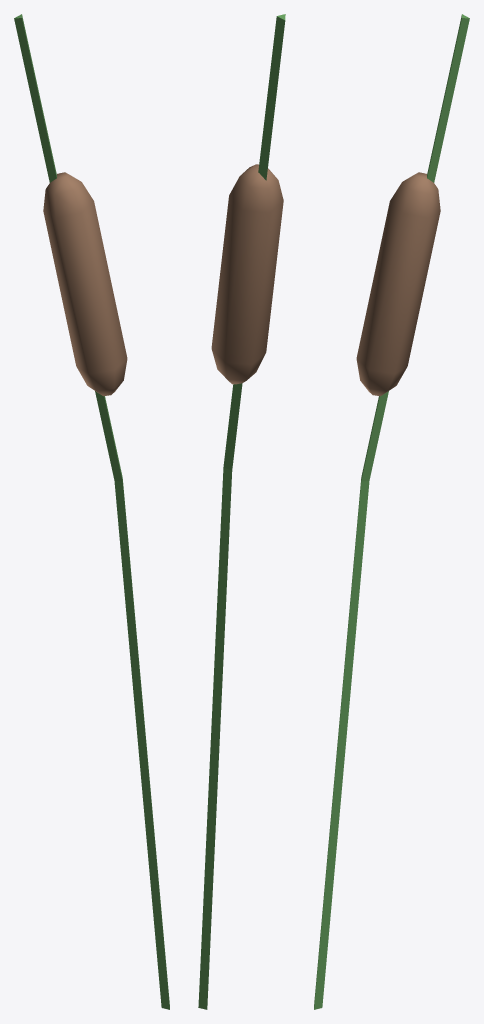
Rendered from Cattail.fbx.
3 views of the same model, side by side, from view 1: azimuth 90°, elevation 25°; view 2: azimuth 210°, elevation 25°; view 3: azimuth 270°, elevation 25° (orthographic). The views are drawn at different scales.
Visible parts, largest first — view 1: Cattail; view 2: Cattail; view 3: Cattail.
Part boxes in pixels (left/top/right/bottom): Cattail: left=14, top=14, right=169, bottom=1009; Cattail: left=198, top=14, right=285, bottom=1009; Cattail: left=314, top=14, right=469, bottom=1009.
Size of the model in its own units: 0.2507 by 1.76 by 0.0724.
